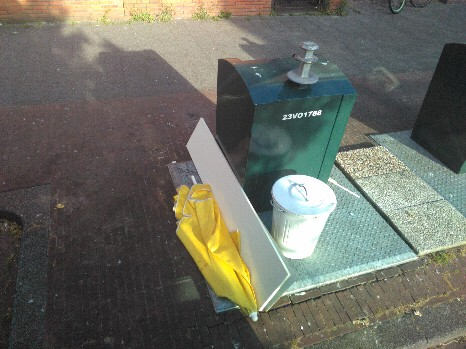Container: (214, 48, 342, 171)
Rest: (186, 133, 277, 294), (278, 175, 331, 251)
